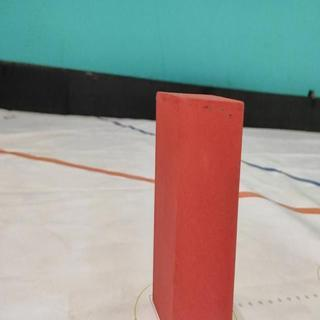redbox: (153, 91, 245, 320)
